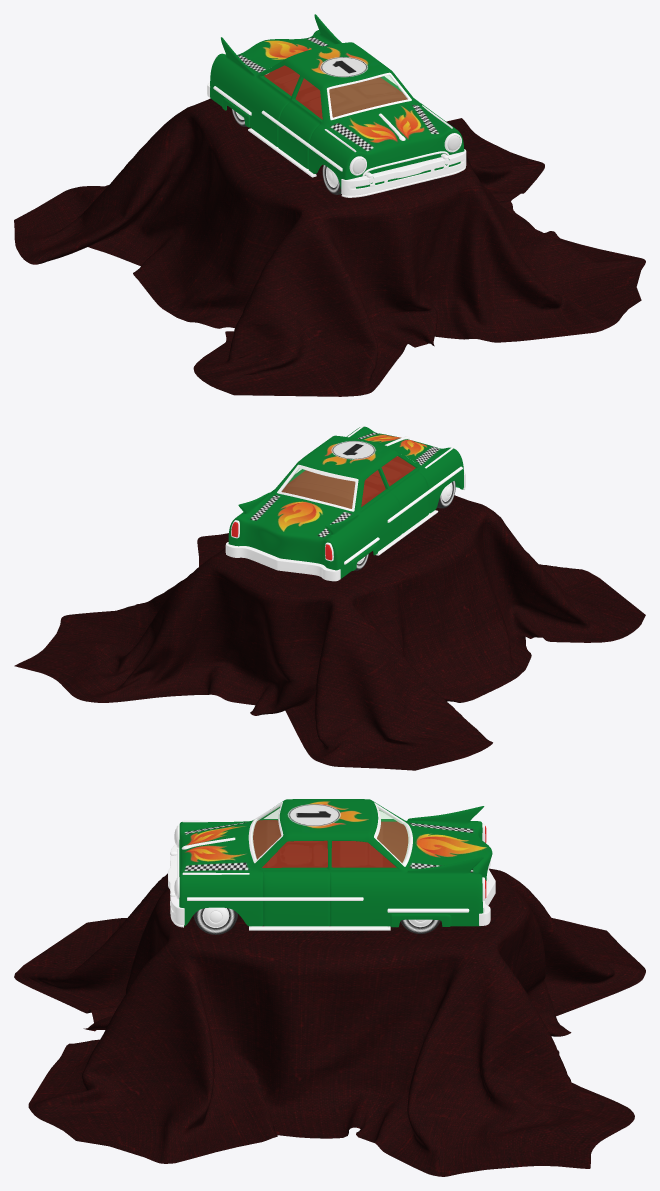
File: ToyCar.glb
3 renders of one model, top to bottom at view 1: azimuth 30°, elevation 25°; view 2: azimuth 150°, elevation 25°; view 3: azimuth 270°, elevation 25°, orthographic. The views are drawn at different scales.
Visible parts, largest first — view 1: Fabric, ToyCar, Glass; view 2: Fabric, ToyCar, Glass; view 3: Fabric, ToyCar, Glass.
Part boxes in pixels (bbox=[...]): Fabric: bbox=[14, 98, 645, 396]; ToyCar: bbox=[207, 14, 466, 197]; Glass: bbox=[329, 75, 407, 116]; Fabric: bbox=[14, 495, 645, 770]; ToyCar: bbox=[225, 425, 465, 581]; Glass: bbox=[282, 468, 354, 508]; Fabric: bbox=[14, 868, 645, 1176]; ToyCar: bbox=[168, 799, 495, 934]; Glass: bbox=[252, 806, 409, 862].
Bounding box in the file's own units: 0.0734 × 0.0288 × 0.074.
Materials: 3 (2 with a texture image).
